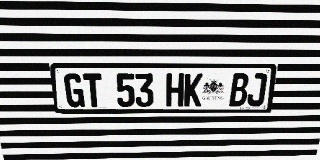3: (135, 73, 153, 107)
5: (116, 73, 135, 107)
B: (229, 73, 249, 106)
G: (63, 73, 85, 107)
H: (166, 73, 184, 107)
J: (246, 73, 268, 106)
K: (184, 73, 203, 106)
T: (83, 73, 103, 107)
